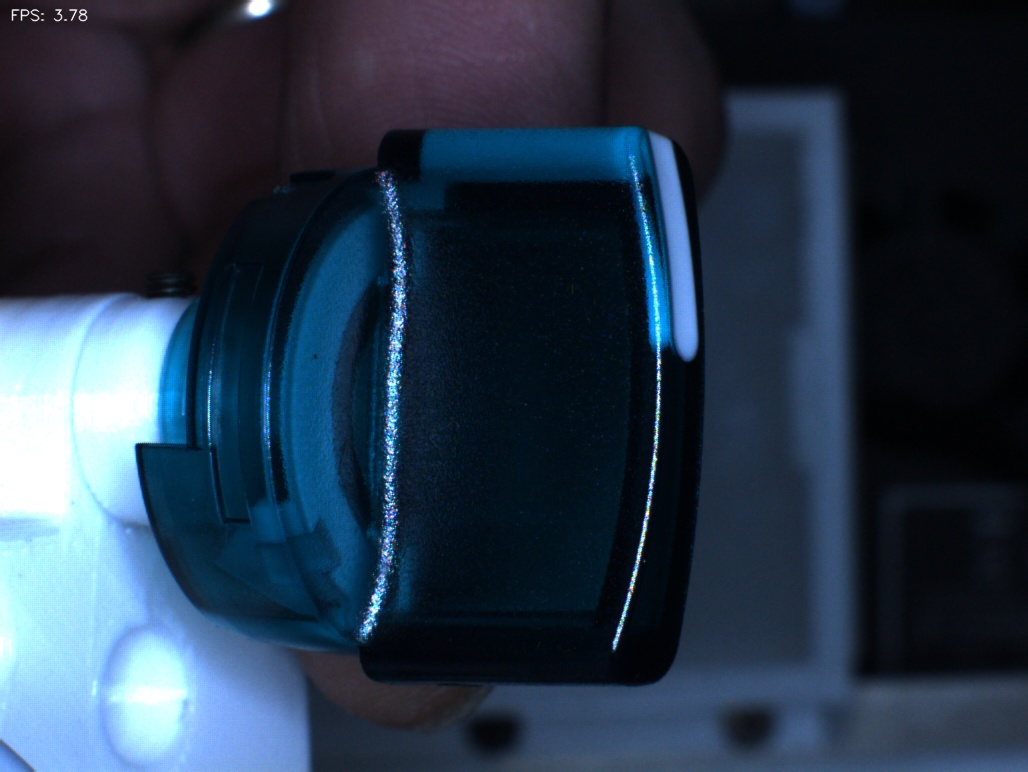PointNoir: (285, 325, 347, 391)
